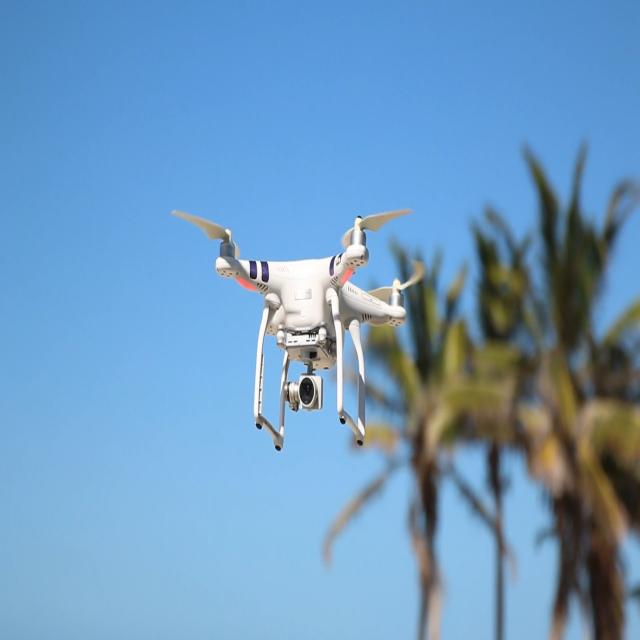Drone: (168, 192, 466, 463)
